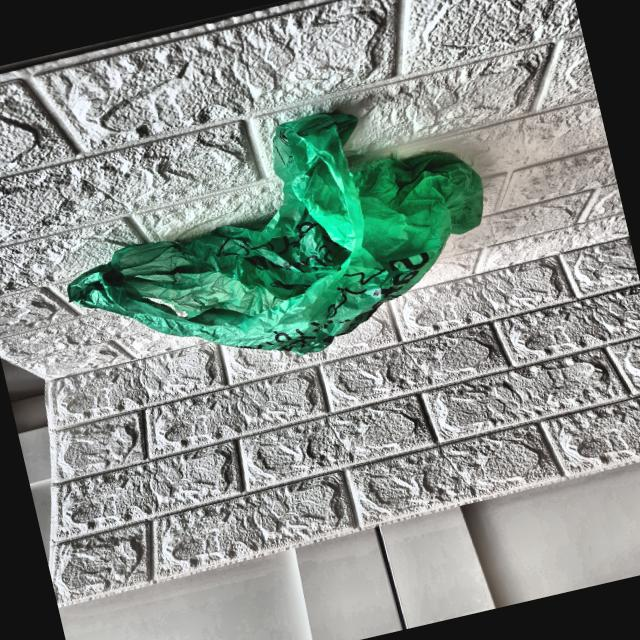plastic bag: (38, 83, 514, 410)
